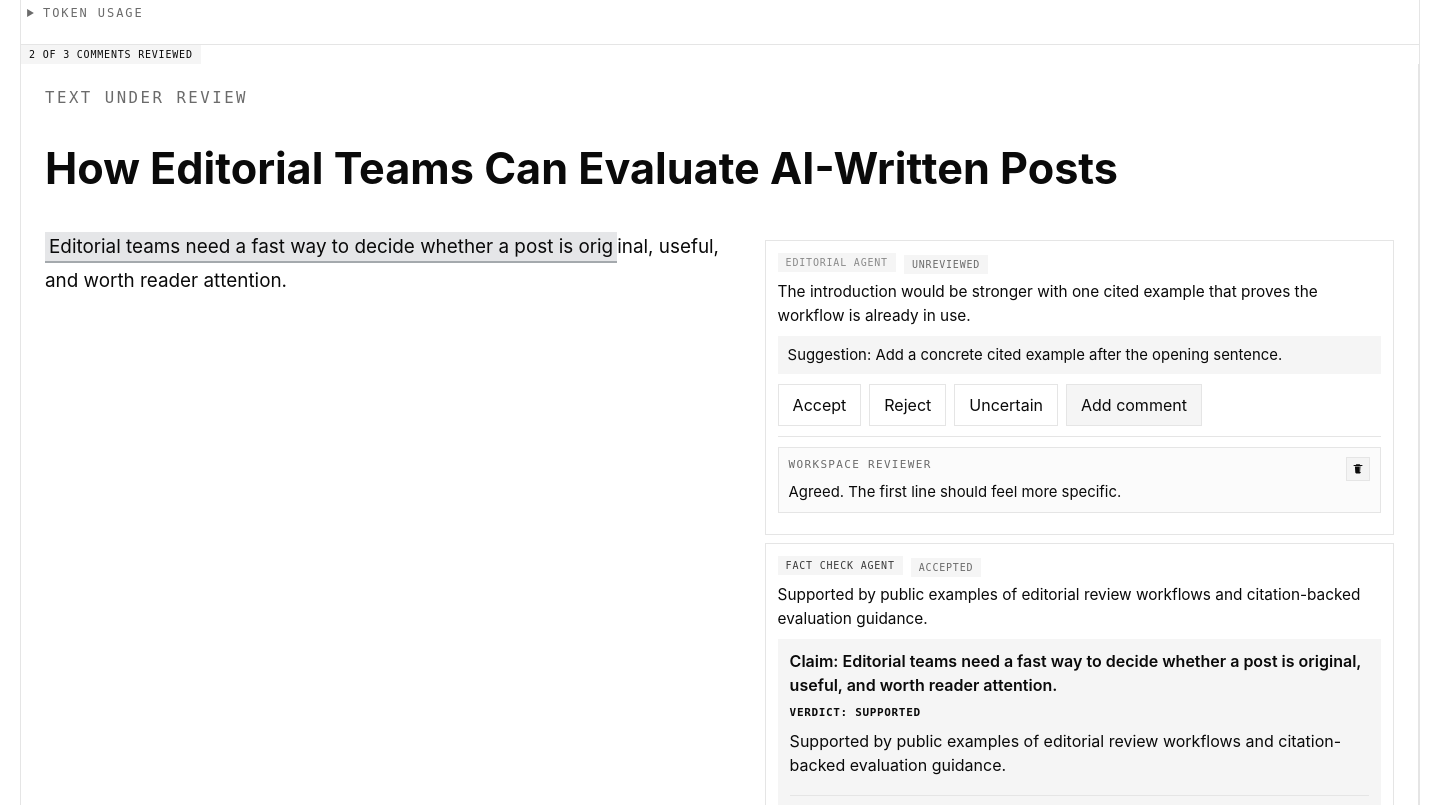
Test: ReviewWorkbench › shows a per-comment local error when a review-state update fails
(page scrolled)
What coordinates should you click on to do the following:
click the button "Accept"
I would click on:
 (819, 405)
Its box is [778,384,861,426].
(page scrolled)
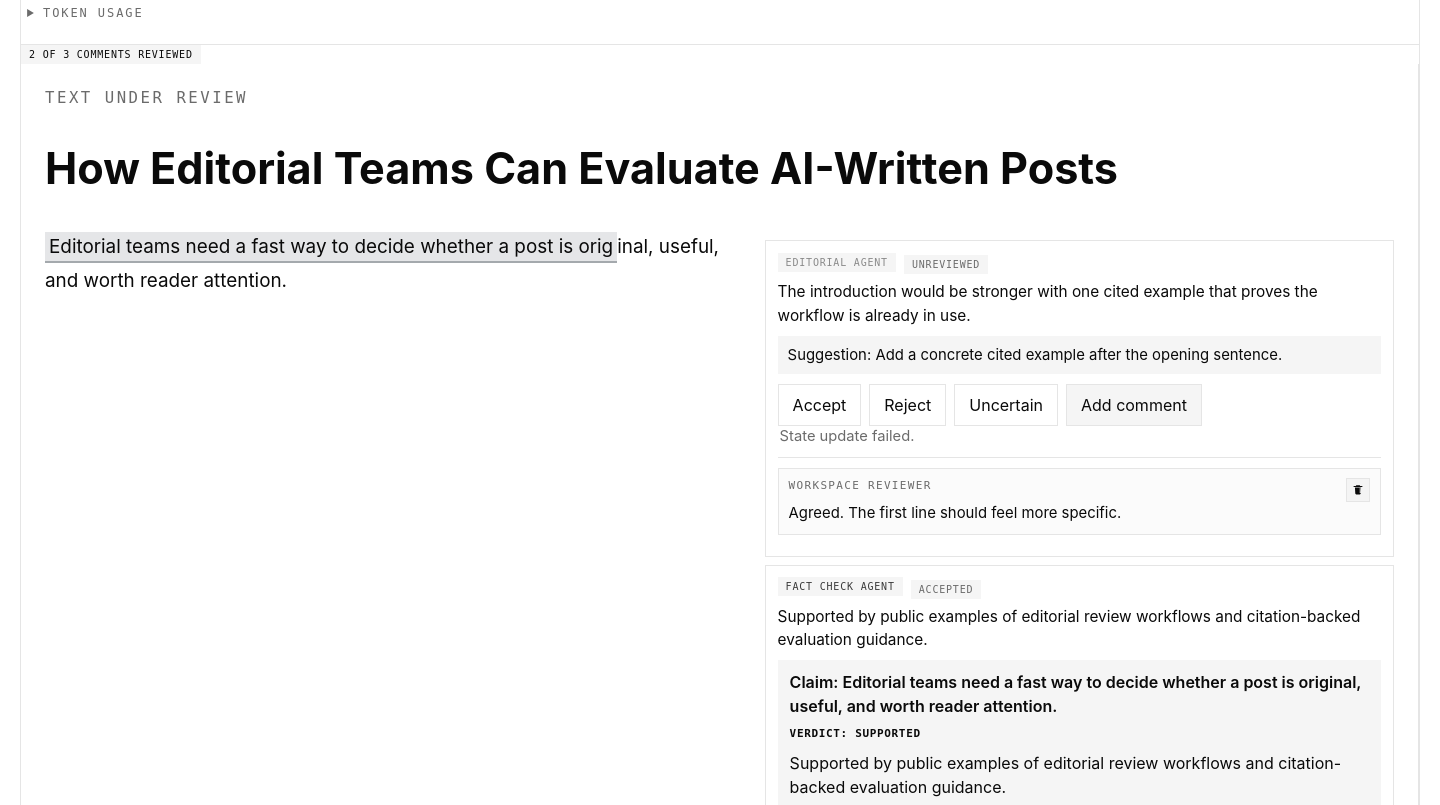
Check: the message with test id "thread-action-local-error" reads "State update failed.", box [780,427,914,445]
